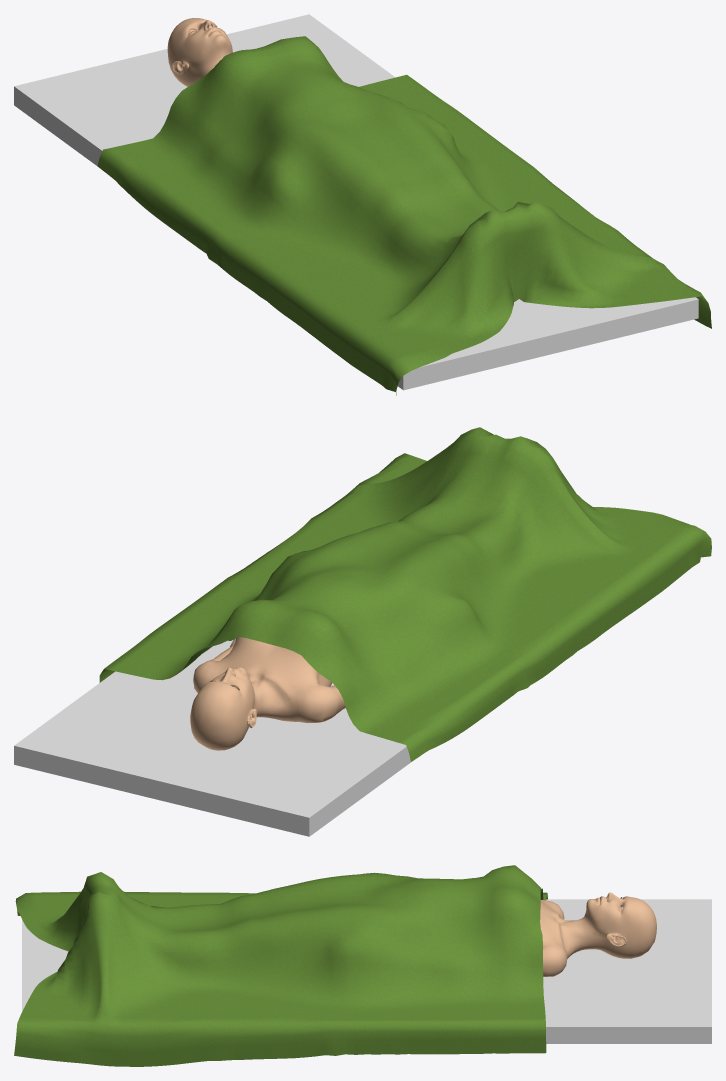
Rendered from Female_Patiant.FBX.
The picture shows the model from 3 angles, top to bottom: view 1: azimuth 30°, elevation 25°; view 2: azimuth 150°, elevation 25°; view 3: azimuth 270°, elevation 25°; orthographic projection. The views are drawn at different scales.
Parts seen in each view (by area): view 1: Plane002, Plane001, x_Alesia_figures; view 2: Plane002, Plane001, x_Alesia_figures; view 3: Plane002, Plane001, x_Alesia_figures.
Boxes of the visible parts, x1=… form: Plane002: x1=97, y1=36, x2=711, y2=395; Plane001: x1=14, y1=14, x2=698, y2=390; x_Alesia_figures: x1=167, y1=18, x2=232, y2=86; Plane002: x1=99, y1=427, x2=711, y2=761; Plane001: x1=14, y1=640, x2=410, y2=836; x_Alesia_figures: x1=190, y1=637, x2=345, y2=750; Plane002: x1=14, y1=865, x2=547, y2=1066; Plane001: x1=22, y1=899, x2=711, y2=1043; x_Alesia_figures: x1=540, y1=892, x2=656, y2=976.
Bounding box in the file's own units: 27.96 × 59.89 × 11.46.
2 materials, 2 textured.
